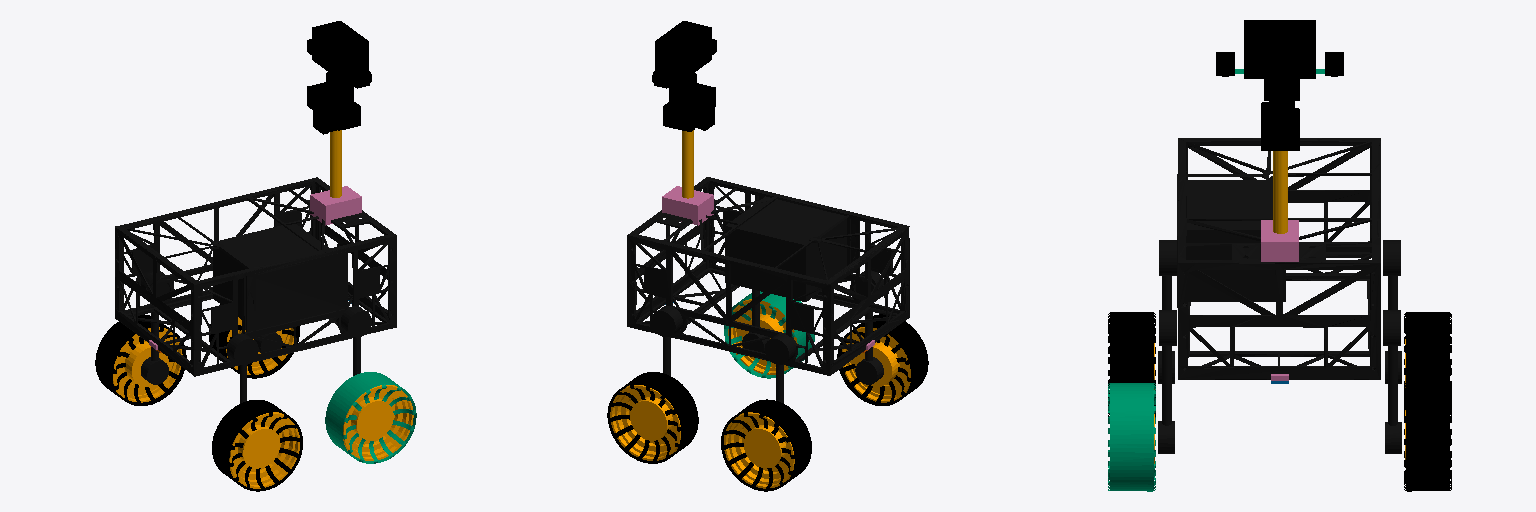
robot.urdf — rover_amalia:
<?xml version="1.0"?>
<robot name="rover_amalia">
  <link name="rover_amalia_turret_bar">
    <visual>
      <origin xyz="0 0 0.11" rpy="0.0 0.0 0.0"/>
      <geometry>
        <mesh filename="package://diana_description/meshes/turret.dae"/>
      </geometry>
    </visual>
    <visual>
      <origin xyz="0 0 0.22" rpy="0.0 0.0 0.0"/>
      <geometry>
        <mesh filename="package://diana_description/meshes/pan_base.dae"/>
      </geometry>
      <material name="black">
        <color rgba="0 0 0 1"/>
      </material>
    </visual>
    <collision>
      <origin xyz="0.195 0.0 0.5640000000000001" rpy="0.0 0.0 0.0"/>
      <geometry>
        <cylinder length="0.2" radius="0.01"/>
      </geometry>
    </collision>
  </link>
  <link name="rover_amalia_turret_tilt_base">
    <visual>
      <origin xyz="-0.0175 -0.008 0.05" rpy="0.0 0.0 0.0"/>
      <geometry>
        <mesh filename="package://diana_description/meshes/pantilt_pan.dae"/>
      </geometry>
      <material name="black">
        <color rgba="0 0 0 1"/>
      </material>
    </visual>
    <collision>
      <origin xyz="0 0 0.1" rpy="0.0 0.0 0.0"/>
      <geometry>
        <box size="0.09 0.03 0.05 "/>
      </geometry>
    </collision>
  </link>
  <link name="rover_amalia_turret_tilt_hinge">
    <visual>
      <origin xyz="0 0 0" rpy="0.0 0.0 0.0"/>
      <geometry>
        <mesh filename="package://diana_description/meshes/pantilt_tilt.dae"/>
      </geometry>
      <material name="black">
        <color rgba="0 0 0 1"/>
      </material>
    </visual>
    <visual>
      <origin xyz="0 -0.09 0.0515" rpy="0.0 0.0 0.0"/>
      <geometry>
        <mesh filename="package://diana_description/meshes/camera.dae"/>
      </geometry>
      <material name="black">
        <color rgba="0 0 0 1"/>
      </material>
    </visual>
    <visual>
      <origin xyz="0 0 0.079" rpy="0.0 0.0 0.0"/>
      <geometry>
        <mesh filename="package://diana_description/meshes/tof.dae"/>
      </geometry>
      <material name="black">
        <color rgba="0 0 0 1"/>
      </material>
    </visual>
    <visual>
      <origin xyz="0 0.09 0.0515" rpy="0.0 0.0 0.0"/>
      <geometry>
        <mesh filename="package://diana_description/meshes/camera.dae"/>
      </geometry>
      <material name="black">
        <color rgba="0 0 0 1"/>
      </material>
    </visual>
    <visual>
      <origin xyz="0 0.0 0.040" rpy="0.0 0.0 0.0"/>
      <geometry>
        <box size="0.02 0.205 0.001"/>
      </geometry>
    </visual>
    <collision>
      <origin/>
      <geometry>
        <box size="0.03 0.07 0.04"/>
      </geometry>
    </collision>
    <collision>
      <origin xyz="0.195 0.0 0.827" rpy="0.0 0.0 0.0"/>
      <geometry>
        <box size="0.07 0.205 0.09"/>
      </geometry>
    </collision>
  </link>

  <link name="rover_amalia_turret_depth_camera_link">
  </link>

  <link name="rover_amalia_rangefinder_front">
    <visual>
      <origin xyz="0 0 0" rpy="0.0 1.57 0.0"/>
      <!--<origin xyz="0.236 0.0 -0.11" rpy="0.0 1.57 0.0"/>-->
      <geometry>
        <box size="0.01 0.03 0.01"/>
      </geometry>
    </visual>
  </link>
  <link name="rover_amalia_rangefinder_rear">
    <visual>
      <origin xyz="0 0 0" rpy="0.0 1.57 0.0"/>
      <!--<origin xyz="-0.236 0.0 -0.11" rpy="0.0 1.57 0.0"/>-->
      <geometry>
        <box size="0.01 0.03 0.01"/>
      </geometry>
    </visual>
  </link>

  <link name="rover_amalia_chassis">
    <visual>
      <origin/>
      <geometry>
        <mesh filename="package://diana_description/meshes/chassis.dae"/>
      </geometry>
      <material name="grey">
        <color rgba="0.1 0.1 0.1 1"/>
      </material>
    </visual>
    <visual>
      <origin xyz="0.195 0.0 0.12" rpy="0.0 0.0 0.0"/>
      <geometry>
        <box size="0.089 0.064 0.046"/>
      </geometry>
    </visual>
    <visual>
      <origin xyz="0.0 -0.08 0.1" rpy="0.0 0.0 0.0"/>
      <geometry>
        <mesh filename="package://diana_description/meshes/cpci.dae"/>
      </geometry>
      <material name="grey">
        <color rgba="0.1 0.1 0.1 1"/>
      </material>
    </visual>
    <visual>
      <origin xyz="0.246 0.0 -0.10" rpy="0.0 0.0 0.0"/>
      <geometry>
        <box size="0.01 0.03 0.01"/>
      </geometry>
    </visual>
    <visual>
      <origin xyz="-0.246 0.0 -0.1" rpy="3.14159 0.00159265 3.14159"/>
      <geometry>
        <box size="0.01 0.03 0.01"/>
      </geometry>
    </visual>
    <inertial>
      <origin xyz="0.0216667 0.0 0.3424444" rpy="0.0 0.0 0.0"/>
      <mass value="15.6"/>
      <inertia ixx="0.6385976" ixy="0" ixz="0" iyy="0.521" iyz="0" izz="0.318954"/>
    </inertial>
    <collision>
      <origin/>
      <geometry>
        <box size="0.492 0.334 0.215"/>
      </geometry>
    </collision>
    <collision>
      <origin xyz="0.195 0.0 0.484" rpy="0.0 0.0 0.0"/>
      <geometry>
        <box size="0.089 0.064 0.046"/>
      </geometry>
    </collision>
  </link>
  <link name="rover_amalia_leg_bar_f_r">
    <visual>
      <origin xyz="0 0 -0.1" rpy="0.0 0.0 0.0"/>
      <geometry>
        <mesh filename="package://diana_description/meshes/leg.dae"/>
      </geometry>
      <material name="grey">
        <color rgba="0.1 0.1 0.1 1"/>
      </material>
    </visual>
    <inertial>
      <origin/>
      <mass value="0.31"/>
      <inertia ixx="0.00279048" ixy="0" ixz="-0.00003956" iyy="0.00275062" iyz="0" izz="0.00008316"/>
    </inertial>
    <collision>
      <geometry>
        <cylinder length="0.22" radius="0.008"/>
      </geometry>
    </collision>
  </link>
  <link name="rover_amalia_leg_wheel_f_r">
    <visual>
      <origin/>
      <geometry>
        <mesh filename="package://diana_description/meshes/motor.dae"/>
      </geometry>
      <material name="gold">
        <color rgba="1 0.647 0 1"/>
      </material>
    </visual>
    <visual>
      <origin/>
      <geometry>
        <mesh filename="package://diana_description/meshes/tire.dae"/>
      </geometry>
      <material name="black">
        <color rgba="0 0 0 1"/>
      </material>
    </visual>
    <inertial>
      <origin/>
      <mass value="1.1"/>
      <inertia ixx="0.00222713" iyy="0.00353418" izz="0.00222499" ixy="0" ixz="0" iyz="0"/>
    </inertial>
    <collision>
      <origin xyz="0.13776 0.238 0.09" rpy="1.5707963 0.0 0.0"/>
      <geometry>
        <cylinder length="0.07" radius="0.09"/>
      </geometry>
    </collision>
  </link>
  <link name="rover_amalia_leg_bar_f_l">
    <visual>
      <origin xyz="0 0 -0.1" rpy="0.0 0.0 3.1415"/>
      <geometry>
        <mesh filename="package://diana_description/meshes/leg.dae"/>
      </geometry>
      <material name="grey">
        <color rgba="0.1 0.1 0.1 1"/>
      </material>
    </visual>
    <inertial>
      <origin/>
      <mass value="0.31"/>
      <inertia ixx="0.00279048" ixy="0" ixz="-0.00003956" iyy="0.00275062" iyz="0" izz="0.00008316"/>
    </inertial>
    <collision>
      <geometry>
        <cylinder length="0.22" radius="0.008"/>
      </geometry>
    </collision>
  </link>
  <link name="rover_amalia_leg_wheel_f_l">
    <visual>
      <origin xyz="0 0 0" rpy="0.0 0.0 -3.1415926"/>
      <geometry>
        <mesh filename="package://diana_description/meshes/motor.dae"/>
      </geometry>
      <material name="gold">
        <color rgba="1 0.647 0 1"/>
      </material>
    </visual>
    <visual>
      <origin xyz="0 0 0" rpy="0.0 0.0 -3.1415926"/>
      <geometry>
        <mesh filename="package://diana_description/meshes/tire.dae"/>
      </geometry>
    </visual>
    <inertial>
      <origin/>
      <mass value="1.1"/>
      <inertia ixx="0.00222713" iyy="0.00353418" izz="0.00222499" ixy="0" ixz="0" iyz="0"/>
    </inertial>
    <collision>
      <origin xyz="0.13776 -0.238 0.09" rpy="1.5707963 0.0 0.0"/>
      <geometry>
        <cylinder length="0.07" radius="0.09"/>
      </geometry>
    </collision>
  </link>
  <link name="rover_amalia_leg_bar_b_r">
    <visual>
      <origin xyz="0 0 -0.1" rpy="0.0 0.0 0.0"/>
      <geometry>
        <mesh filename="package://diana_description/meshes/leg.dae"/>
      </geometry>
      <material name="grey">
        <color rgba="0.1 0.1 0.1 1"/>
      </material>
    </visual>
    <inertial>
      <origin/>
      <mass value="0.31"/>
      <inertia ixx="0.00279048" ixy="0" ixz="-0.00003956" iyy="0.00275062" iyz="0" izz="0.00008316"/>
    </inertial>
    <collision>
      <geometry>
        <cylinder length="0.22" radius="0.008"/>
      </geometry>
    </collision>
  </link>
  <link name="rover_amalia_leg_wheel_b_r">
    <visual>
      <origin/>
      <geometry>
        <mesh filename="package://diana_description/meshes/motor.dae"/>
      </geometry>
      <material name="gold">
        <color rgba="1 0.647 0 1"/>
      </material>
    </visual>
    <visual>
      <origin/>
      <geometry>
        <mesh filename="package://diana_description/meshes/tire.dae"/>
      </geometry>
      <material name="black">
        <color rgba="0 0 0 1"/>
      </material>
    </visual>
    <inertial>
      <origin/>
      <mass value="1.1"/>
      <inertia ixx="0.00222713" iyy="0.00353418" izz="0.00222499" ixy="0" ixz="0" iyz="0"/>
    </inertial>
    <collision>
      <origin xyz="-0.13776 0.238 0.09" rpy="1.5707963 0.0 0.0"/>
      <geometry>
        <cylinder length="0.07" radius="0.09"/>
      </geometry>
    </collision>
  </link>
  <link name="rover_amalia_leg_bar_b_l">
    <visual>
      <origin xyz="0 0 -0.1" rpy="0.0 0.0 3.1415"/>
      <geometry>
        <mesh filename="package://diana_description/meshes/leg.dae"/>
      </geometry>
      <material name="grey">
        <color rgba="0.1 0.1 0.1 1"/>
      </material>
    </visual>
    <inertial>
      <origin/>
      <mass value="0.31"/>
      <inertia ixx="0.00279048" ixy="0" ixz="-0.00003956" iyy="0.00275062" iyz="0" izz="0.00008316"/>
    </inertial>
    <collision>
      <geometry>
        <cylinder length="0.22" radius="0.008"/>
      </geometry>
    </collision>
  </link>
  <link name="rover_amalia_leg_wheel_b_l">
    <visual>
      <origin xyz="0 0 0" rpy="0.0 0.0 -3.1415926"/>
      <geometry>
        <mesh filename="package://diana_description/meshes/motor.dae"/>
      </geometry>
      <material name="gold">
        <color rgba="1 0.647 0 1"/>
      </material>
    </visual>
    <visual>
      <origin xyz="0 0 0" rpy="0.0 0.0 -3.1415926"/>
      <geometry>
        <mesh filename="package://diana_description/meshes/tire.dae"/>
      </geometry>
      <material name="black">
        <color rgba="0 0 0 1"/>
      </material>
    </visual>
    <inertial>
      <origin/>
      <mass value="1.1"/>
      <inertia ixx="0.00222713" iyy="0.00353418" izz="0.00222499" ixy="0" ixz="0" iyz="0"/>
    </inertial>
    <collision>
      <origin xyz="-0.13776 -0.238 0.09" rpy="1.5707963 0.0 0.0"/>
      <geometry>
        <cylinder length="0.07" radius="0.09"/>
      </geometry>
    </collision>
  </link>
  <joint name="rover_amalia_turret_pan" type="revolute">
    <origin xyz="0.01 0 0.224" rpy="0.0 0.0 0.0"/>
    <child link="rover_amalia_turret_tilt_base"/>
    <parent link="rover_amalia_turret_bar"/>
    <axis xyz="0 0 -1"/>
    <limit lower="-3.1415926" upper="3.1415926" effort="1000" velocity="1000"/>
  </joint>
  <joint name="rover_amalia_turret_tilt" type="revolute">
    <origin xyz="0 0 0.065" rpy="0.0 0.0 0.0"/>
    <child link="rover_amalia_turret_tilt_hinge"/>
    <parent link="rover_amalia_turret_tilt_base"/>
    <axis xyz="0 -1 0"/>
    <limit lower="-2.35619445" upper="2.35619445" effort="1000" velocity="1000"/>
  </joint>
  <joint name="rover_amalia_leg_shaft_f_r" type="revolute">
    <origin xyz="0 0.075 -0.2" rpy="0.0 0.0 0.0"/>
    <child link="rover_amalia_leg_wheel_f_r"/>
    <parent link="rover_amalia_leg_bar_f_r"/>
    <axis xyz="0 1 0"/>
    <limit lower="-1e+16" upper="1e+16" effort="1000" velocity="1000"/>
  </joint>
  <joint name="rover_amalia_leg_shaft_f_l" type="revolute">
    <origin xyz="0 -0.075 -0.2" rpy="0.0 0.0 0.0"/>
    <child link="rover_amalia_leg_wheel_f_l"/>
    <parent link="rover_amalia_leg_bar_f_l"/>
    <axis xyz="0 1 0"/>
    <limit lower="-1e+16" upper="1e+16" effort="1000" velocity="1000"/>
  </joint>
  <joint name="rover_amalia_leg_shaft_b_r" type="revolute">
    <origin xyz="0 0.075 -0.2" rpy="0.0 0.0 0.0"/>
    <child link="rover_amalia_leg_wheel_b_r"/>
    <parent link="rover_amalia_leg_bar_b_r"/>
    <axis xyz="0 1 0"/>
    <limit lower="-1e+16" upper="1e+16" effort="1000" velocity="1000"/>
  </joint>
  <joint name="rover_amalia_leg_shaft_b_l" type="revolute">
    <origin xyz="0 -0.075 -0.2" rpy="0.0 0.0 0.0"/>
    <child link="rover_amalia_leg_wheel_b_l"/>
    <parent link="rover_amalia_leg_bar_b_l"/>
    <axis xyz="0 1 0"/>
    <limit lower="-1e+16" upper="1e+16" effort="1000" velocity="1000"/>
  </joint>
  <joint name="rover_amalia_joint_chassis_leg_f_r" type="revolute">
    <origin xyz="0.13776 0.170 -0.06" rpy="0.0 0.0 0.0"/>
    <child link="rover_amalia_leg_bar_f_r"/>
    <parent link="rover_amalia_chassis"/>
    <axis xyz="0 1 0"/>
    <limit lower="-3.1415926" upper="3.1415926" effort="1000" velocity="1000"/>
  </joint>
  <joint name="rover_amalia_joint_chassis_leg_f_l" type="revolute">
    <origin xyz="0.13776 -0.170 -0.06" rpy="0.0 0.0 0.0"/>
    <child link="rover_amalia_leg_bar_f_l"/>
    <parent link="rover_amalia_chassis"/>
    <axis xyz="0 1 0"/>
    <limit lower="-3.1415926" upper="3.1415926" effort="1000" velocity="1000"/>
  </joint>
  <joint name="rover_amalia_joint_chassis_leg_b_r" type="revolute">
    <origin xyz="-0.13776 0.170 -0.06" rpy="0.0 0.0 0.0"/>
    <child link="rover_amalia_leg_bar_b_r"/>
    <parent link="rover_amalia_chassis"/>
    <axis xyz="0 1 0"/>
    <limit lower="-3.1415926" upper="3.1415926" effort="1000" velocity="1000"/>
  </joint>
  <joint name="rover_amalia_joint_chassis_leg_b_l" type="revolute">
    <origin xyz="-0.13776 -0.170 -0.06" rpy="0.0 0.0 0.0"/>
    <child link="rover_amalia_leg_bar_b_l"/>
    <parent link="rover_amalia_chassis"/>
    <axis xyz="0 1 0"/>
    <limit lower="-3.1415926" upper="3.1415926" effort="1000" velocity="1000"/>
  </joint>
  <joint name="rover_amalia_joint_turret_base_turret" type="revolute">
    <origin xyz="0.195 0.0 0.11" rpy="0.0 0.0 0.0"/>
    <child link="rover_amalia_turret_bar"/>
    <parent link="rover_amalia_chassis"/>
    <axis xyz="0 0 1"/>
    <limit lower="-1e-16" upper="1e-16" effort="1000" velocity="1000"/>
  </joint>
  <joint name="rover_amalia_joint_chassis_rangefinder_front" type="revolute">
    <!--<origin xyz="0.236 0.0 -0.11" rpy="0.0 1.57 0.0"/>-->
    <origin xyz="0.236 0.0 -0.11" rpy="0 0 0"/>
    <child link="rover_amalia_rangefinder_front"/>
    <parent link="rover_amalia_chassis"/>
    <axis xyz="0 1 0"/>
    <limit lower="-1e-16" upper="1e-16" effort="1000" velocity="1000"/>
  </joint>
  <joint name="rover_amalia_joint_chassis_rangefinder_rear" type="revolute">
    <!--<origin xyz="0.236 0.0 -0.11" rpy="0.0 1.57 0.0"/>-->
    <origin xyz="-0.236 0.0 -0.11" rpy="0 0 0"/>
    <child link="rover_amalia_rangefinder_rear"/>
    <parent link="rover_amalia_chassis"/>
    <axis xyz="0 1 0"/>
    <limit lower="-1e-16" upper="1e-16" effort="1000" velocity="1000"/>
  </joint>
  <joint name="rover_amalia_hinge_depth_camera_link" type="revolute">
    <origin xyz="0 0 0" rpy="1.57 3.1415  1.57"/>
    <child link="rover_amalia_turret_depth_camera_link"/>
    <parent link="rover_amalia_turret_tilt_hinge"/>
    <axis xyz="0 1 0"/>
    <limit lower="-1e-16" upper="1e-16" effort="1000" velocity="1000"/>
  </joint>
</robot>

--- What the picture shows (computed from the rendered views, not written in the file) ---
The picture shows the robot from 3 angles, left to right: view 1: azimuth 30°, elevation 25°; view 2: azimuth 150°, elevation 25°; view 3: azimuth 270°, elevation 25°; orthographic projection.
Robot: rover_amalia — 15 links, 14 joints (14 revolute); root link rover_amalia_chassis; default pose: every joint at zero.
Links seen in each view (by area): view 1: rover_amalia_chassis, rover_amalia_leg_wheel_f_l, rover_amalia_leg_wheel_b_l, rover_amalia_leg_wheel_b_r, rover_amalia_turret_tilt_hinge, rover_amalia_turret_bar, rover_amalia_leg_wheel_f_r, rover_amalia_turret_tilt_base, rover_amalia_leg_bar_b_r, rover_amalia_leg_bar_f_l, rover_amalia_leg_bar_b_l; view 2: rover_amalia_chassis, rover_amalia_leg_wheel_f_r, rover_amalia_leg_wheel_b_r, rover_amalia_leg_wheel_b_l, rover_amalia_turret_tilt_hinge, rover_amalia_leg_wheel_f_l, rover_amalia_turret_bar, rover_amalia_turret_tilt_base, rover_amalia_leg_bar_b_l, rover_amalia_leg_bar_f_r, rover_amalia_leg_bar_b_r, rover_amalia_leg_bar_f_l; view 3: rover_amalia_chassis, rover_amalia_turret_tilt_hinge, rover_amalia_leg_wheel_f_l, rover_amalia_leg_wheel_f_r, rover_amalia_leg_wheel_b_r, rover_amalia_leg_wheel_b_l, rover_amalia_turret_bar, rover_amalia_leg_bar_f_l, rover_amalia_leg_bar_f_r, rover_amalia_leg_bar_b_r, rover_amalia_leg_bar_b_l, rover_amalia_turret_tilt_base.
Boxes of the visible links, <box> form: rover_amalia_chassis: <box>115,177,396,376</box>; rover_amalia_leg_wheel_f_l: <box>325,372,416,463</box>; rover_amalia_leg_wheel_b_l: <box>212,400,302,491</box>; rover_amalia_leg_wheel_b_r: <box>95,314,186,405</box>; rover_amalia_turret_tilt_hinge: <box>307,21,371,93</box>; rover_amalia_turret_bar: <box>313,102,360,197</box>; rover_amalia_leg_wheel_f_r: <box>209,304,299,378</box>; rover_amalia_turret_tilt_base: <box>307,72,353,112</box>; rover_amalia_leg_bar_b_r: <box>141,271,169,384</box>; rover_amalia_leg_bar_f_l: <box>341,306,371,375</box>; rover_amalia_leg_bar_b_l: <box>227,334,258,403</box>; rover_amalia_chassis: <box>627,177,909,375</box>; rover_amalia_leg_wheel_f_r: <box>607,372,698,463</box>; rover_amalia_leg_wheel_b_r: <box>721,399,811,491</box>; rover_amalia_leg_wheel_b_l: <box>837,314,928,405</box>; rover_amalia_turret_tilt_hinge: <box>652,21,716,94</box>; rover_amalia_leg_wheel_f_l: <box>724,291,814,378</box>; rover_amalia_turret_bar: <box>663,102,714,198</box>; rover_amalia_turret_tilt_base: <box>669,73,715,113</box>; rover_amalia_leg_bar_b_l: <box>855,271,883,384</box>; rover_amalia_leg_bar_f_r: <box>651,306,682,375</box>; rover_amalia_leg_bar_b_r: <box>765,334,795,402</box>; rover_amalia_leg_bar_f_l: <box>742,289,769,352</box>; rover_amalia_chassis: <box>1177,138,1380,380</box>; rover_amalia_turret_tilt_hinge: <box>1216,20,1343,100</box>; rover_amalia_leg_wheel_f_l: <box>1108,383,1155,491</box>; rover_amalia_leg_wheel_f_r: <box>1404,383,1451,491</box>; rover_amalia_leg_wheel_b_r: <box>1404,312,1451,415</box>; rover_amalia_leg_wheel_b_l: <box>1108,312,1155,416</box>; rover_amalia_turret_bar: <box>1261,102,1299,233</box>; rover_amalia_leg_bar_f_l: <box>1158,310,1176,453</box>; rover_amalia_leg_bar_f_r: <box>1383,310,1401,453</box>; rover_amalia_leg_bar_b_r: <box>1383,240,1401,383</box>; rover_amalia_leg_bar_b_l: <box>1158,240,1176,383</box>; rover_amalia_turret_tilt_base: <box>1269,79,1294,122</box>.
Bounding box of the posed robot: 0.502 × 0.5702 × 0.8654 m (x, y, z).
Meshes: 11 distinct files referenced, 21 mesh visuals loaded (11 Collada DAE).
